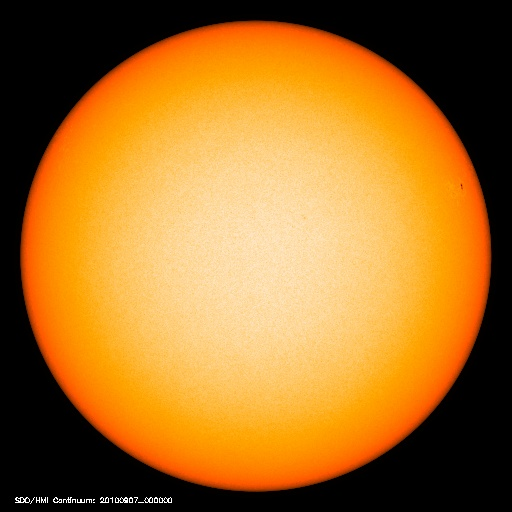sunspot: (447, 169, 475, 202)
